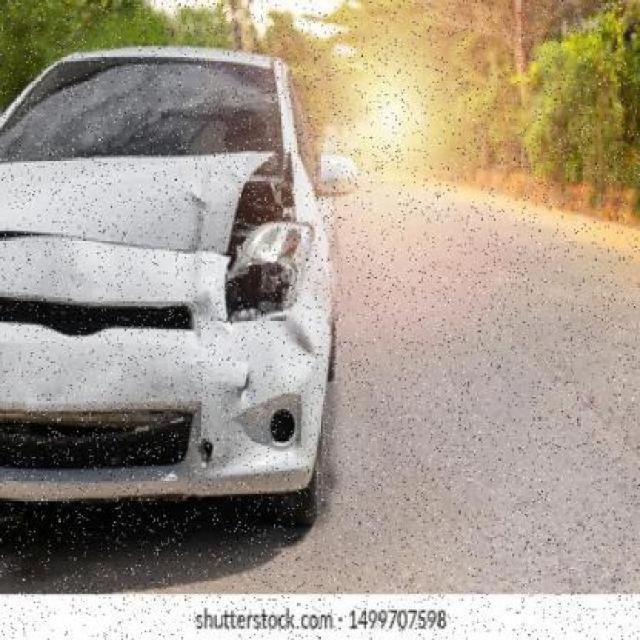Headlight-Damage: (226, 165, 303, 339)
bonnet-dent: (0, 140, 264, 291)
front-bumper-dent: (0, 311, 320, 503)
